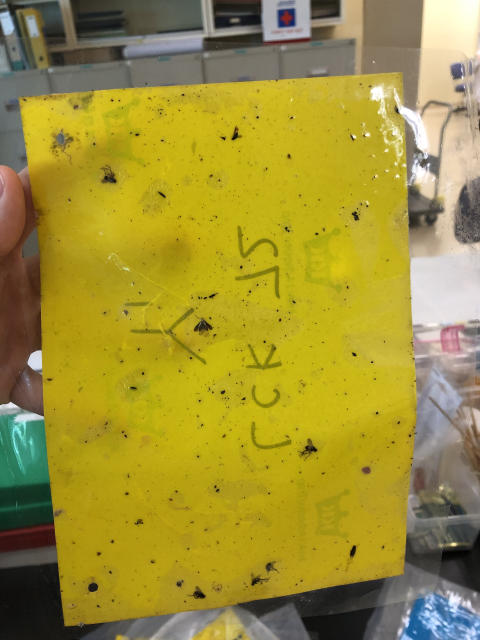DBM: (191, 313, 216, 334)
